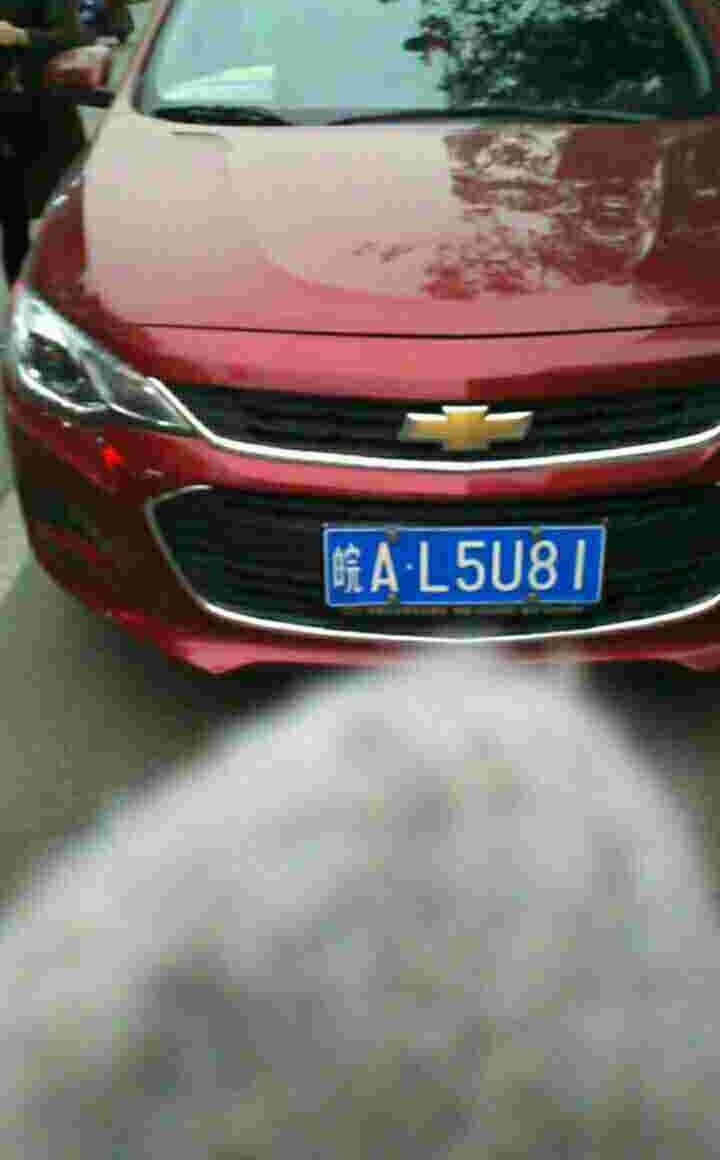license_plate: (320, 519, 612, 613)
